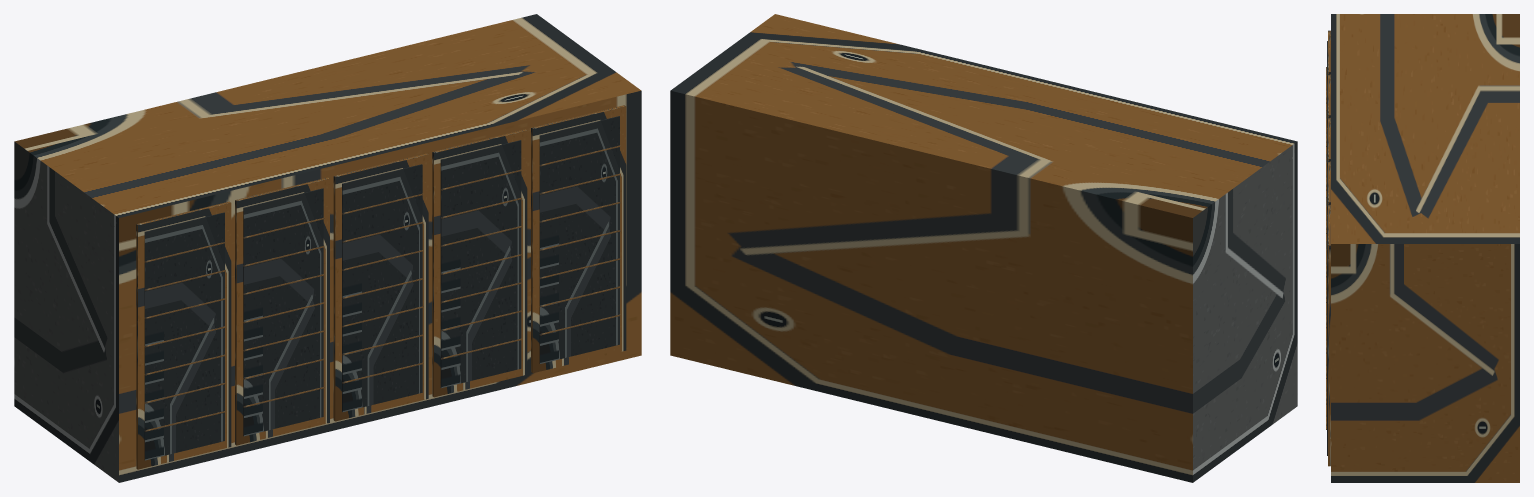
Rendered from solar.glb.
3 views of the same model, side by side, from view 1: azimuth 30°, elevation 25°; view 2: azimuth 150°, elevation 25°; view 3: azimuth 270°, elevation 25° (orthographic). The views are drawn at different scales.
Visible parts, largest first — view 1: STProp_solar_Body; view 2: STProp_solar_Body; view 3: STProp_solar_Body.
Boxes of the visible parts, box(x1,y1,x2,y2) form: STProp_solar_Body: box(14, 14, 641, 482); STProp_solar_Body: box(670, 14, 1297, 482); STProp_solar_Body: box(1326, 14, 1519, 482).
Size of the model in its own units: 5.82 by 2.82 by 2.07.
Materials: 3 (3 with a texture image).
